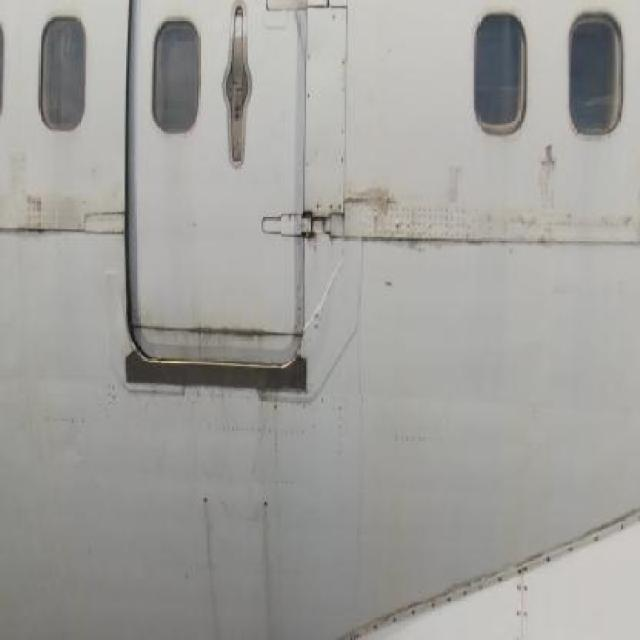Missing-Rivet: (405, 528, 590, 618)
Rust: (192, 489, 237, 633), (179, 310, 276, 350), (254, 488, 278, 624), (358, 177, 405, 228), (20, 194, 65, 234)
Scartch: (534, 140, 571, 226)
